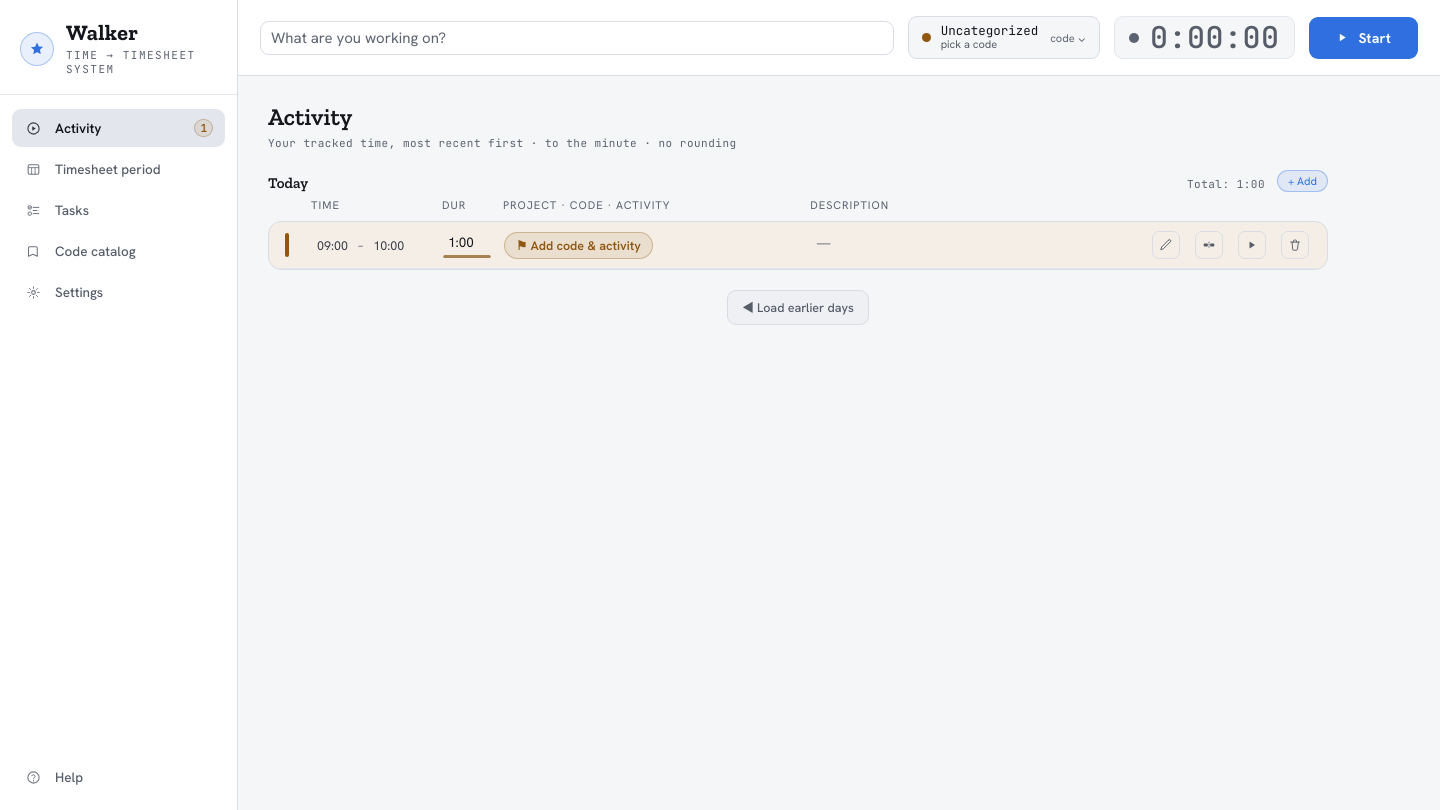
Test: App — code picker stacks above the Timesheet-period cell modal (TEC-009) › keeps a retired code out of the code picker while leaving it in the catalog
This screenshot has width=1440, height=810.
Step 1. Click the button "Code catalog" → {"x": 118, "y": 251}, box x1=12 y1=232 x2=225 y2=270
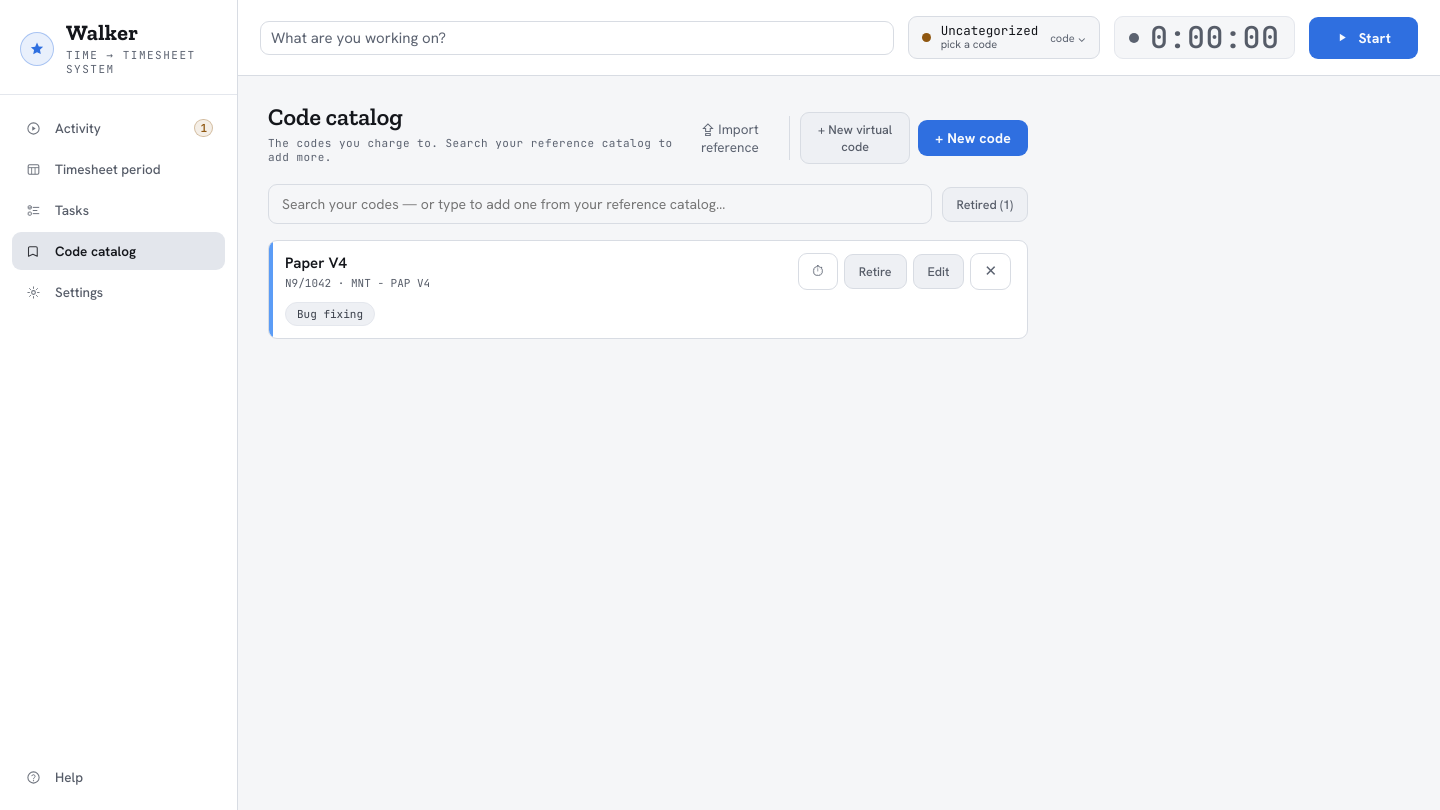
Step 2. Click the button "Retired (1)" → {"x": 985, "y": 204}, box x1=942 y1=186 x2=1028 y2=222
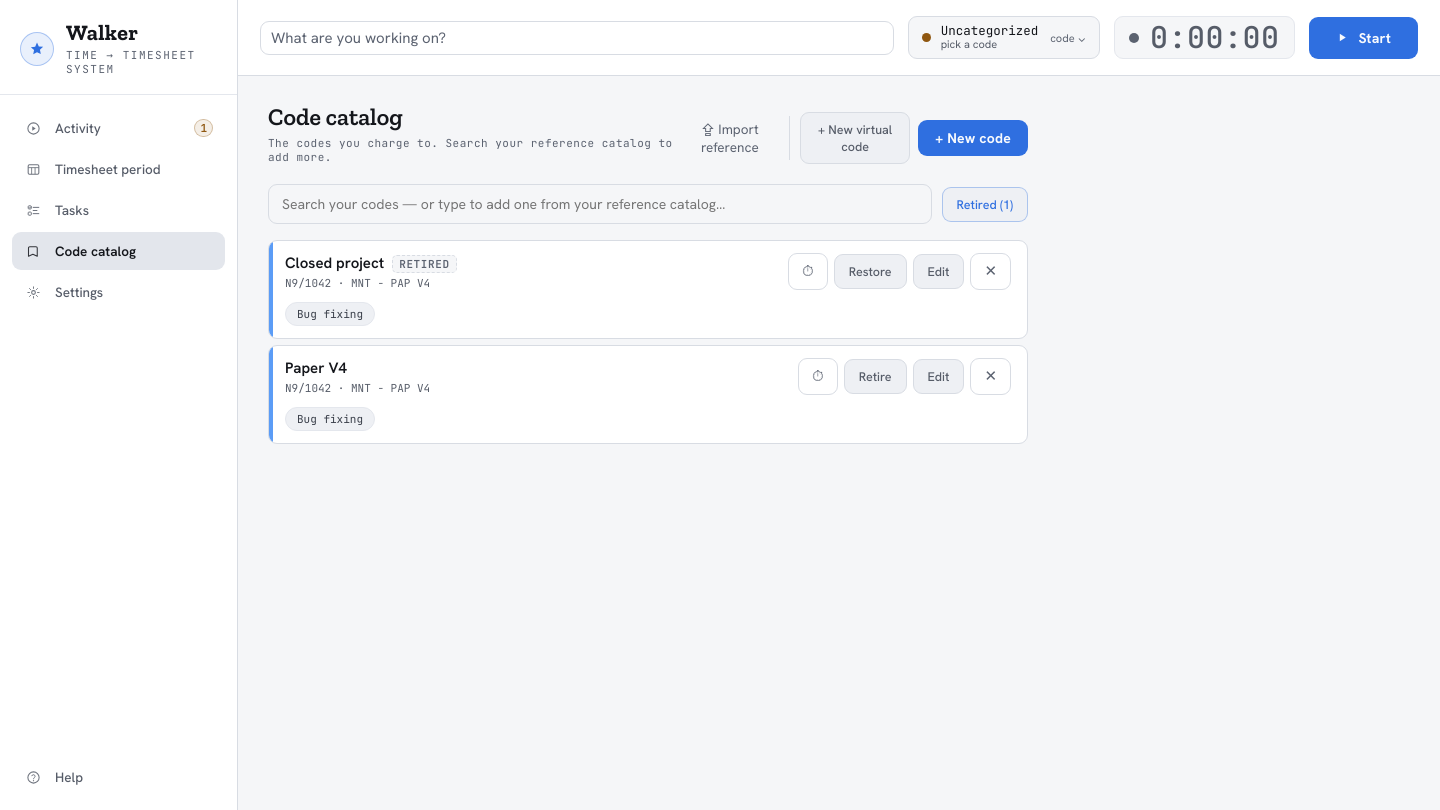
Now the text "Closed project" is shown, box x1=285 y1=253 x2=384 y2=273
Step 3. Click the text "Activity" → {"x": 78, "y": 128}, box x1=55 y1=119 x2=101 y2=137
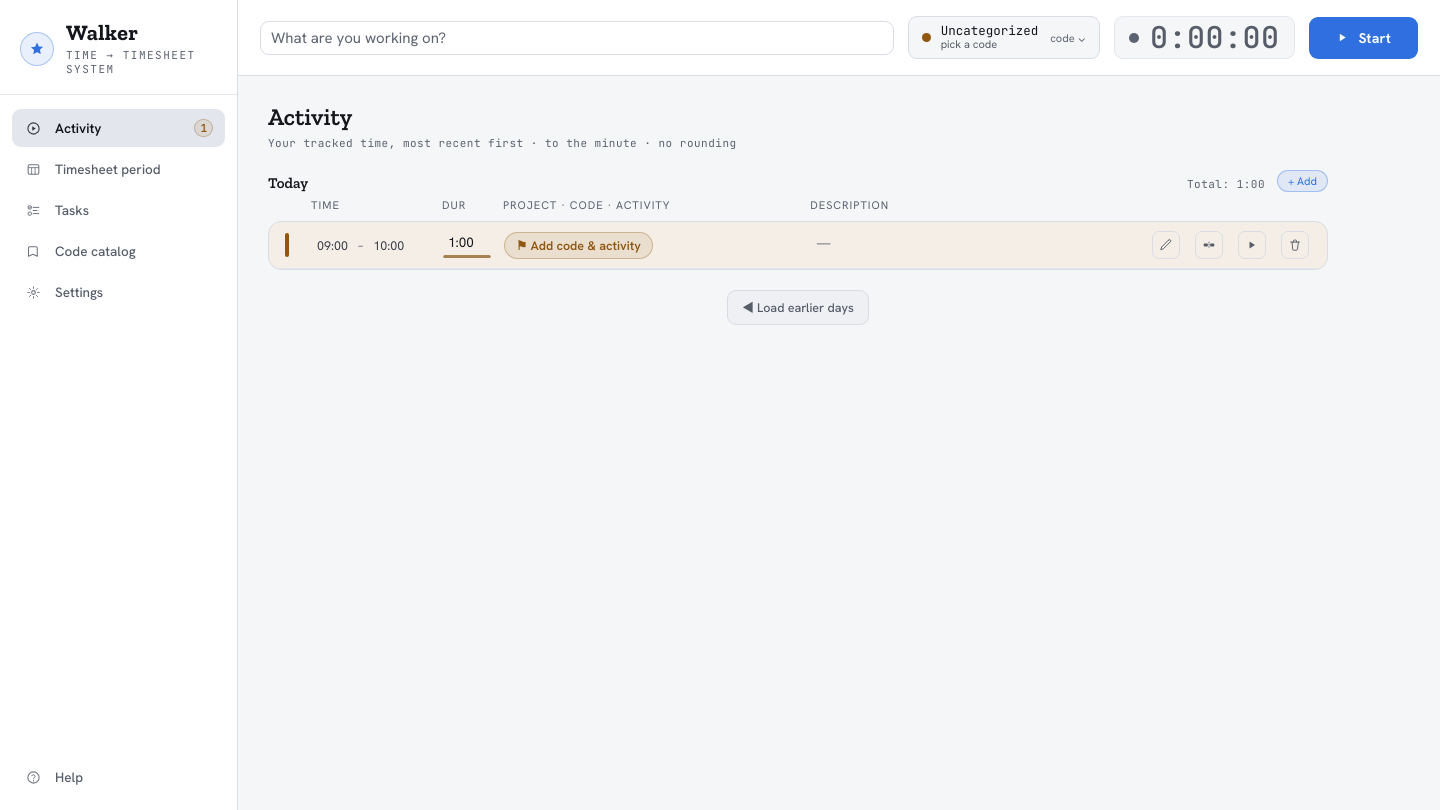
Step 4. Click the text "pick a code" → {"x": 969, "y": 44}, box x1=941 y1=37 x2=997 y2=51
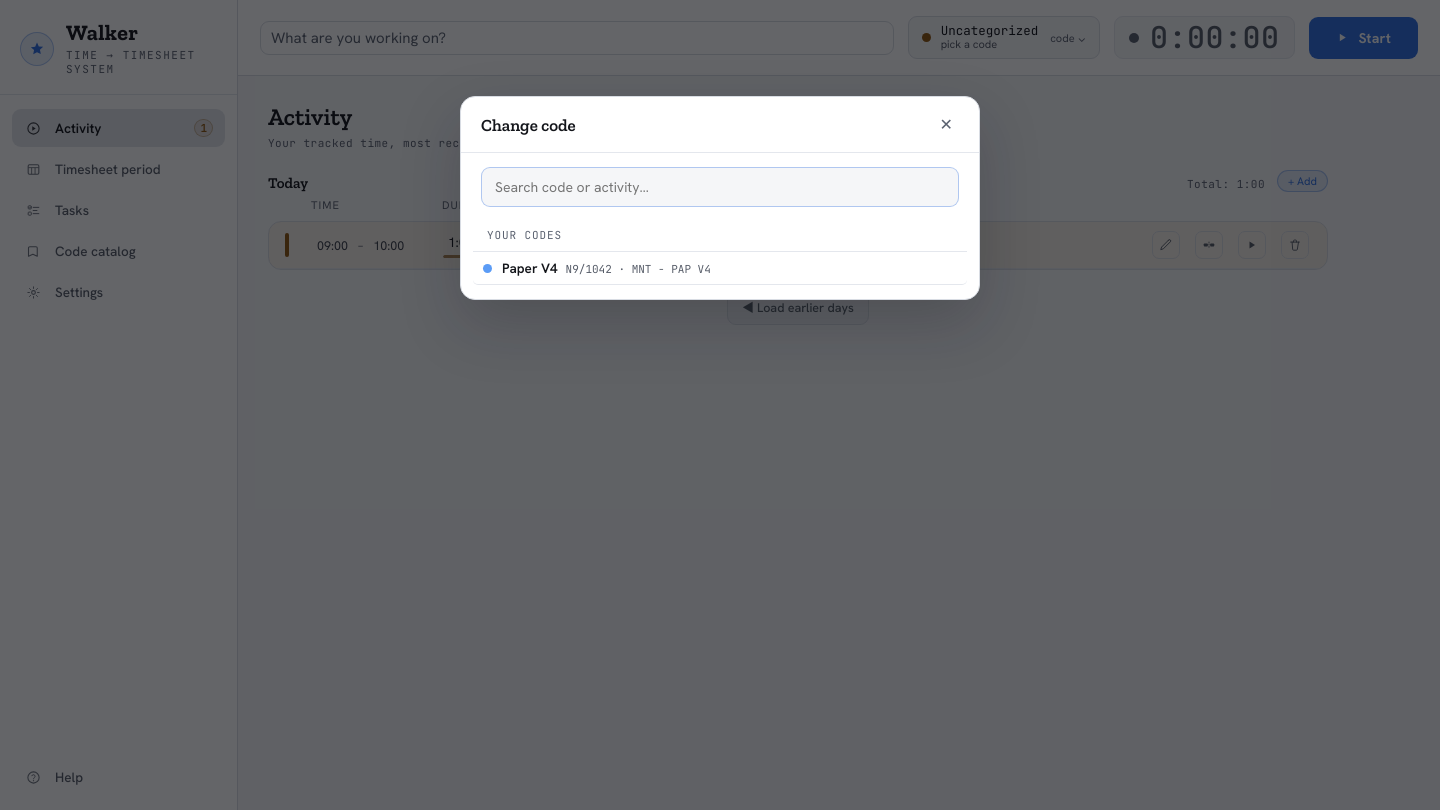
Expected: the text "Closed project" is not shown
Now the text "Paper V4" is shown, box x1=502 y1=259 x2=558 y2=277
